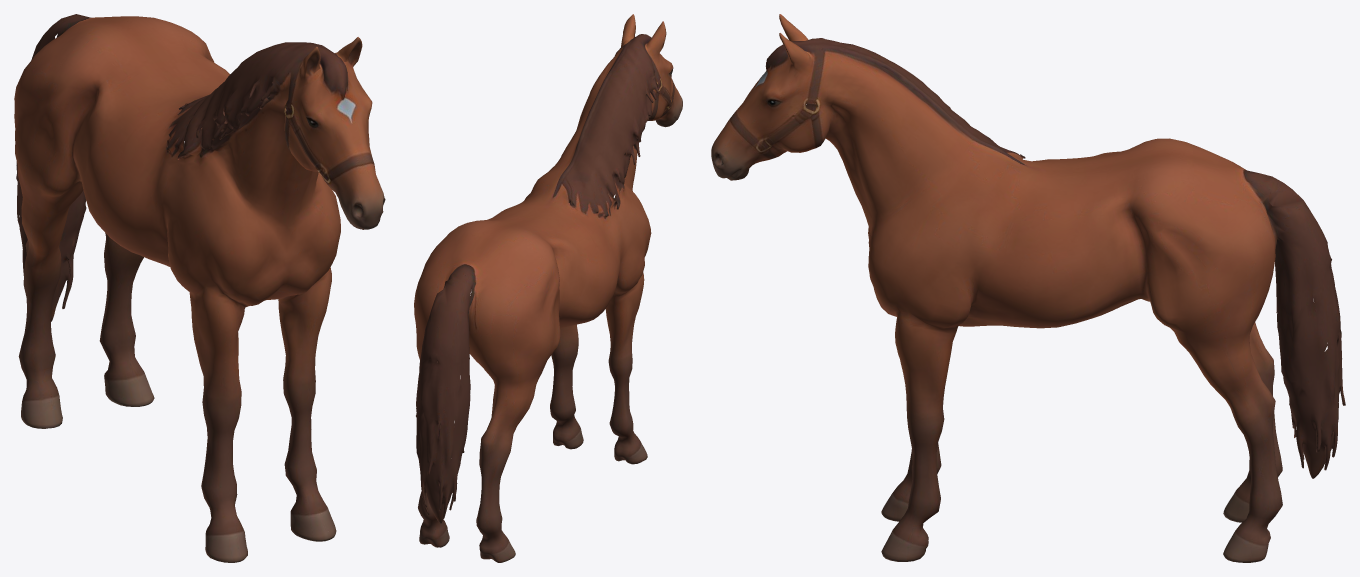
File: wagon-horse.glb
3 renders of one model, left to right at view 1: azimuth 30°, elevation 25°; view 2: azimuth 150°, elevation 25°; view 3: azimuth 270°, elevation 25°, orthographic. The views are drawn at different scales.
Parts seen in each view (by area): view 1: tripo_node_4cf56cd2; view 2: tripo_node_4cf56cd2; view 3: tripo_node_4cf56cd2.
Part boxes in pixels (x1=…): tripo_node_4cf56cd2: x1=14, y1=14, x2=385, y2=562; tripo_node_4cf56cd2: x1=414, y1=14, x2=682, y2=562; tripo_node_4cf56cd2: x1=711, y1=14, x2=1345, y2=562.
Size of the model in its own units: 29.33 by 87.09 by 97.72.
Materials: 1 (1 with a texture image).
